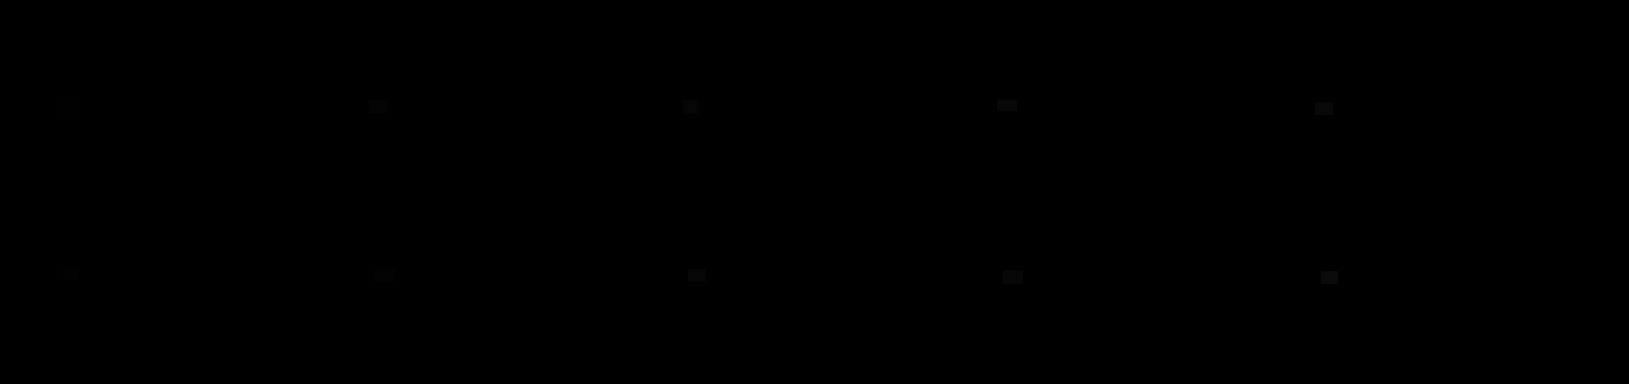light: (1003, 270, 1023, 284), (374, 269, 395, 282), (369, 100, 388, 113), (688, 269, 706, 282), (683, 100, 699, 114), (1315, 102, 1333, 115), (997, 100, 1017, 111), (1321, 271, 1338, 284), (56, 102, 73, 113), (63, 270, 78, 280)
